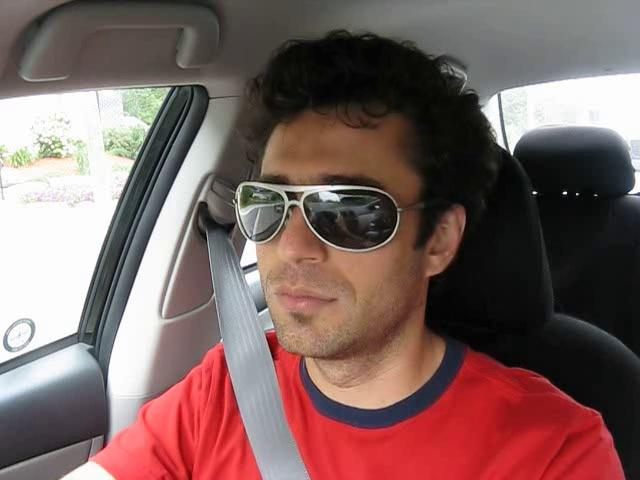no_yawn: (256, 278, 353, 322)
